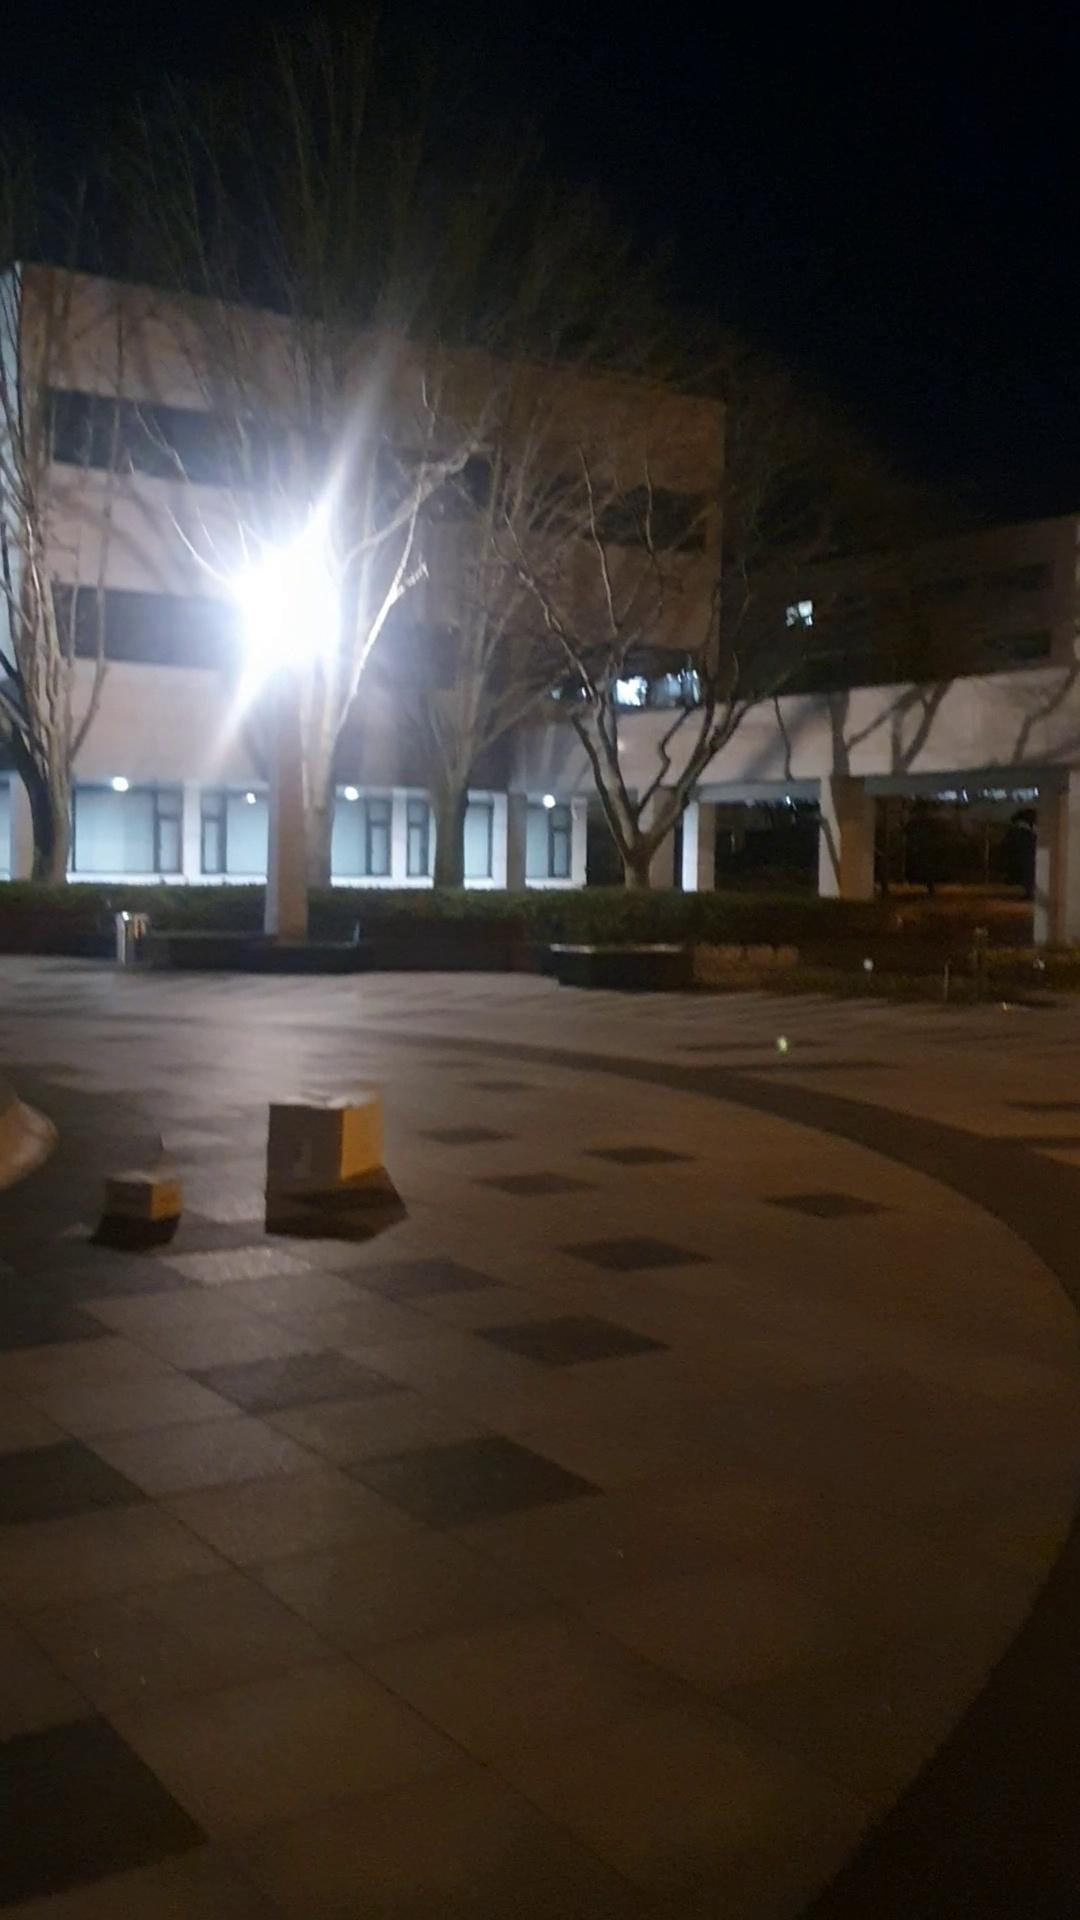Box: (247, 1083, 400, 1200), (91, 1158, 223, 1263)
